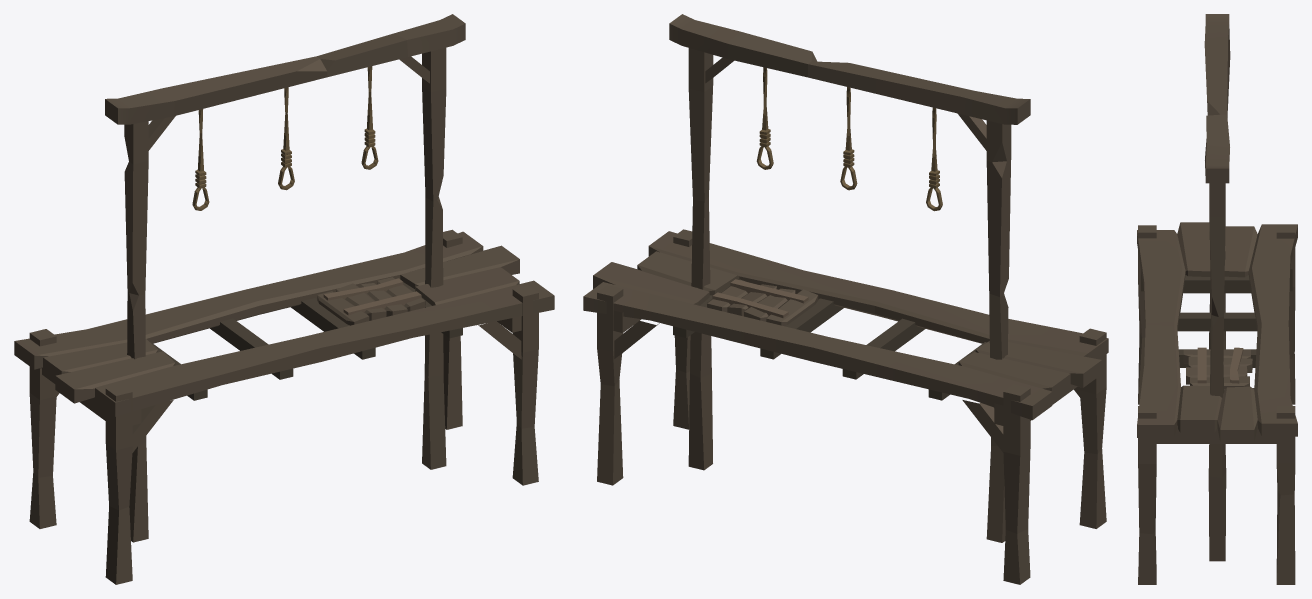
File: SM_Prop_Gallows_Trapdoor_03.glb
3 views of the same model, side by side, from view 1: azimuth 30°, elevation 25°; view 2: azimuth 150°, elevation 25°; view 3: azimuth 270°, elevation 25° (orthographic). The views are drawn at different scales.
Visible parts, largest first — view 1: SM_Prop_Gallows_Trapdoor_03; view 2: SM_Prop_Gallows_Trapdoor_03; view 3: SM_Prop_Gallows_Trapdoor_03.
Part boxes in pixels (x1=…): SM_Prop_Gallows_Trapdoor_03: x1=14, y1=14, x2=554, y2=584; SM_Prop_Gallows_Trapdoor_03: x1=583, y1=14, x2=1108, y2=584; SM_Prop_Gallows_Trapdoor_03: x1=1137, y1=14, x2=1297, y2=584.
Bounding box in the file's own units: 0.0604 × 0.0543 × 0.0198.
